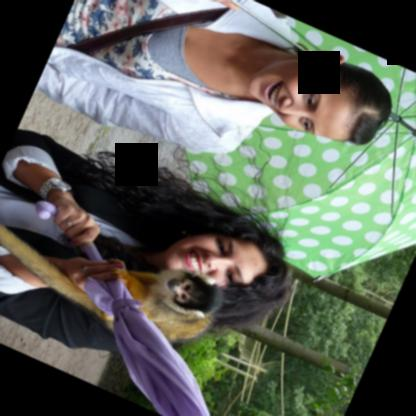handbag: (65, 5, 285, 54)
